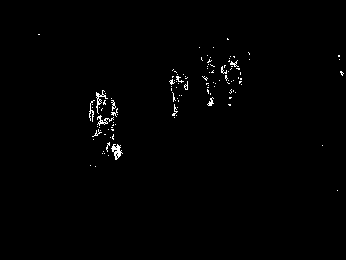person: (86, 89, 123, 166), (166, 64, 189, 118)
